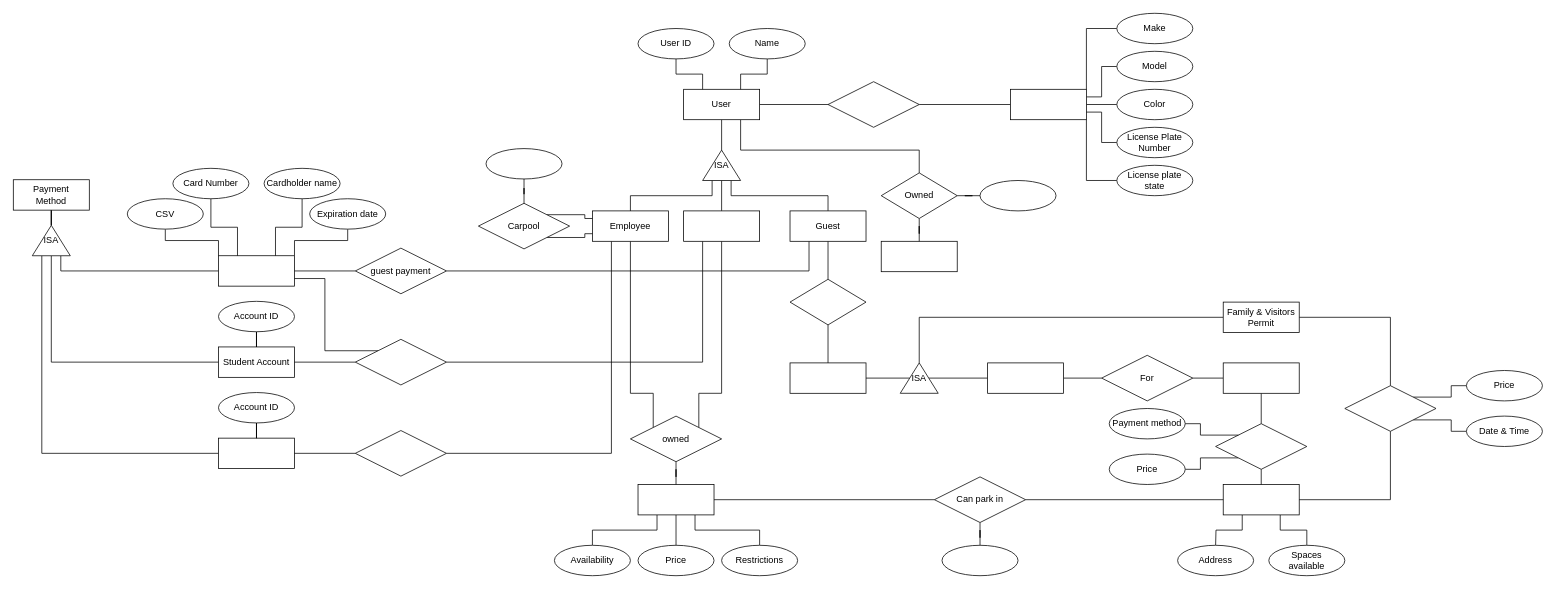
Image size: 1556x589. Some labels were removed from this diagram. Each missing label, with the centre of its shape:
"Accessibility Permit" goes at [918,256].
"Credit Card" goes at [256,270].
"Day and Time" goes at [979,560].
"disability certification" goes at [1017,195].
"Drives" goes at [873,104].
"Employee Account" goes at [256,453].
"employee payment" goes at [400,453].
"Event" goes at [1260,377].
"Event Parking" goes at [1261,446].
"Event Permit" goes at [1025,377].
"Family & Visitor Parking" goes at [1390,408].
"Guest owned" goes at [827,302].
"Guest Permit" goes at [827,377].
"Leader" goes at [523,163].
"Lots/Garages" goes at [1260,499].
"Permit" goes at [675,499].
"Student" goes at [721,225].
"student payment" goes at [400,362].
"Vehicle" goes at [1048,104].
